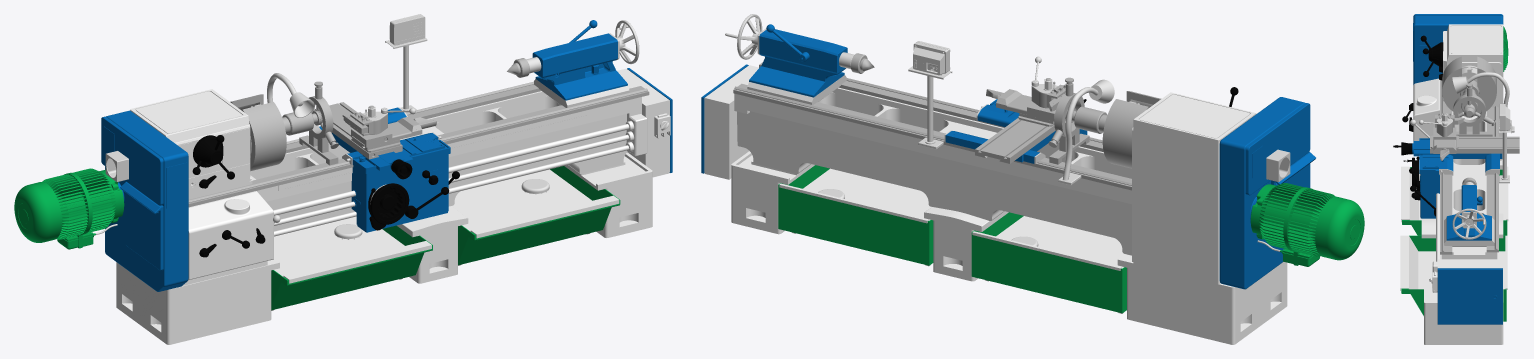
Rendered from Lathe_Machine.fbx.
The picture shows the model from 3 angles, left to right: view 1: azimuth 30°, elevation 25°; view 2: azimuth 150°, elevation 25°; view 3: azimuth 270°, elevation 25°; orthographic projection. The views are drawn at different scales.
Parts seen in each view (by area): view 1: Body, Body1 (×8), Body2 (×4), Body5, Brep With Voids, Body.2 (×4), Body4, Body3 (×2), Body7; view 2: Body, Body1 (×7), Body2 (×4), Body5, Body.2 (×4), Body4, Brep With Voids, Body3, Body7; view 3: Body, Body1 (×11), Body.2 (×5), Body2 (×4), Brep With Voids, Body4 (×2), Body3 (×2), Body7, Body5 (×2), CLOSED_SHELL #136028.
Boxes of the visible parts, bbox=[...] form: Body: bbox=[116, 68, 672, 344]; Body1 (×8): bbox=[101, 20, 649, 291]; Body2 (×4): bbox=[105, 102, 620, 310]; Body5: bbox=[14, 168, 124, 249]; Brep With Voids: bbox=[319, 107, 450, 232]; Body.2 (×4): bbox=[230, 73, 338, 171]; Body4: bbox=[532, 20, 627, 100]; Body3 (×2): bbox=[370, 14, 425, 224]; Body7: bbox=[351, 105, 417, 148]; Body: bbox=[701, 64, 1287, 344]; Body1 (×7): bbox=[725, 14, 1315, 289]; Body2 (×4): bbox=[778, 113, 1290, 313]; Body5: bbox=[1250, 183, 1364, 266]; Body.2 (×4): bbox=[1048, 77, 1161, 180]; Body4: bbox=[749, 24, 847, 97]; Brep With Voids: bbox=[945, 99, 1087, 163]; Body3: bbox=[913, 41, 950, 75]; Body7: bbox=[1001, 78, 1055, 121]; Body: bbox=[1413, 24, 1503, 344]; Body1 (×11): bbox=[1393, 14, 1508, 290]; Body.2 (×5): bbox=[1442, 56, 1513, 136]; Body2 (×4): bbox=[1401, 135, 1519, 321]; Brep With Voids: bbox=[1412, 138, 1502, 218]; Body4 (×2): bbox=[1433, 145, 1491, 240]; Body3 (×2): bbox=[1403, 104, 1510, 187]; Body7: bbox=[1433, 112, 1456, 148]; Body5 (×2): bbox=[1436, 26, 1508, 126]; CLOSED_SHELL #136028: bbox=[1435, 112, 1454, 137].
Size of the model in its own units: 4930 by 1656 by 1157.
